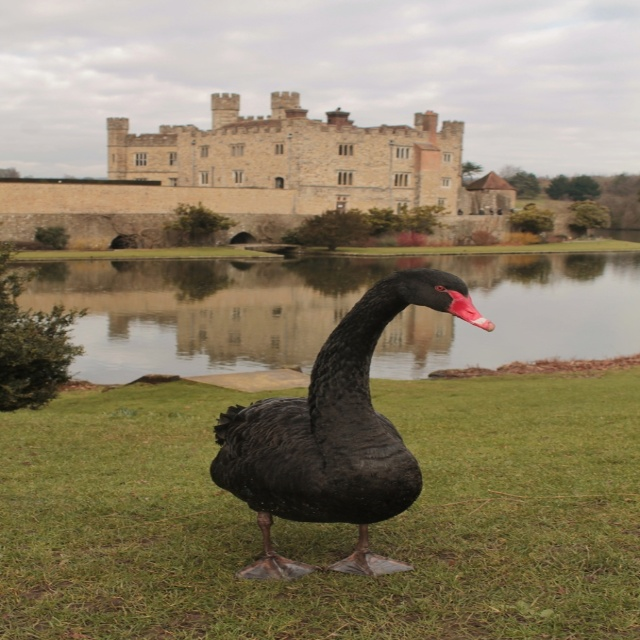Swan: (210, 267, 495, 583)
